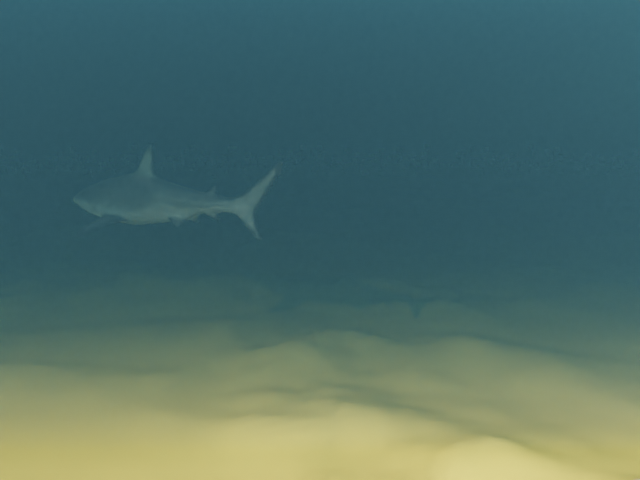Carribean Shark.001: (72, 144, 283, 239)
